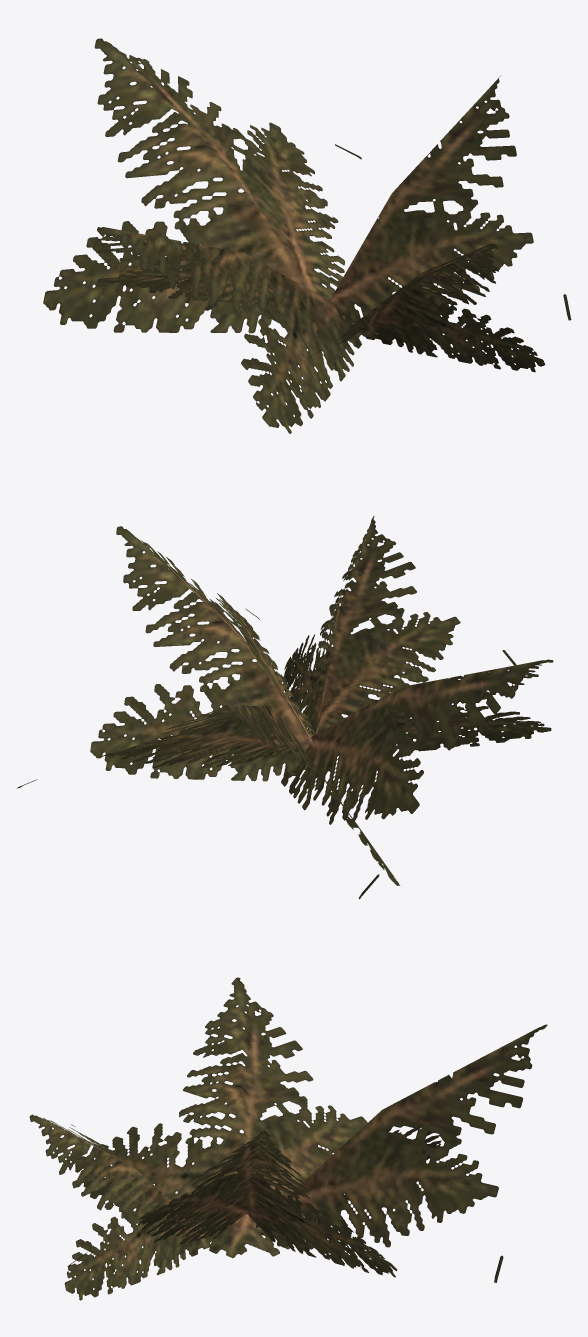
Rendered from naflbu16.dae.
3 views of the same model, one above another, from view 1: azimuth 30°, elevation 25°; view 2: azimuth 150°, elevation 25°; view 3: azimuth 270°, elevation 25° (orthographic). The views are drawn at different scales.
Parts seen in each view (by area): view 1: crown0; view 2: crown0; view 3: crown0.
Boxes of the visible parts, x1,y1,x2,y2 form: crown0: (43,38,571,433); crown0: (17,516,553,899); crown0: (29,977,547,1300).
Bounding box in the file's own units: 0.6674 × 0.7386 × 0.3523.
Materials: 1 (1 with a texture image).
